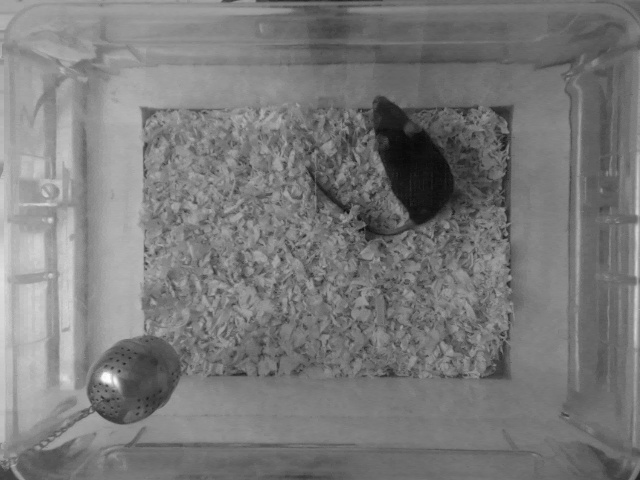mice: (307, 86, 462, 237)
